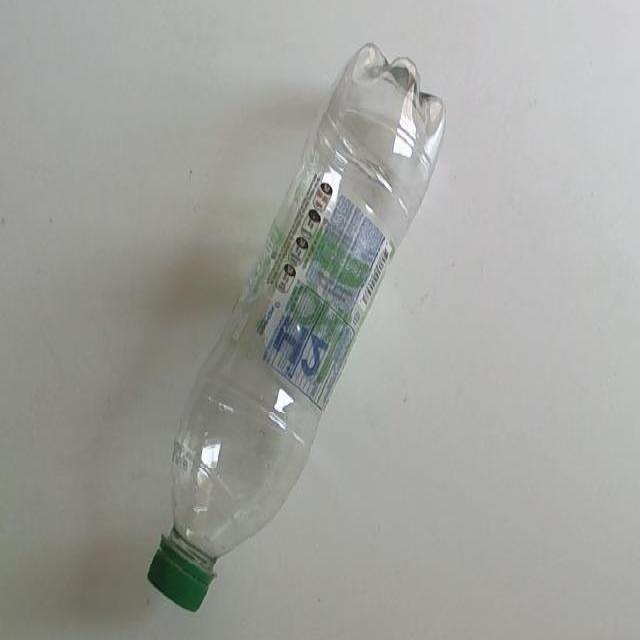non-defect: (146, 40, 448, 614)
